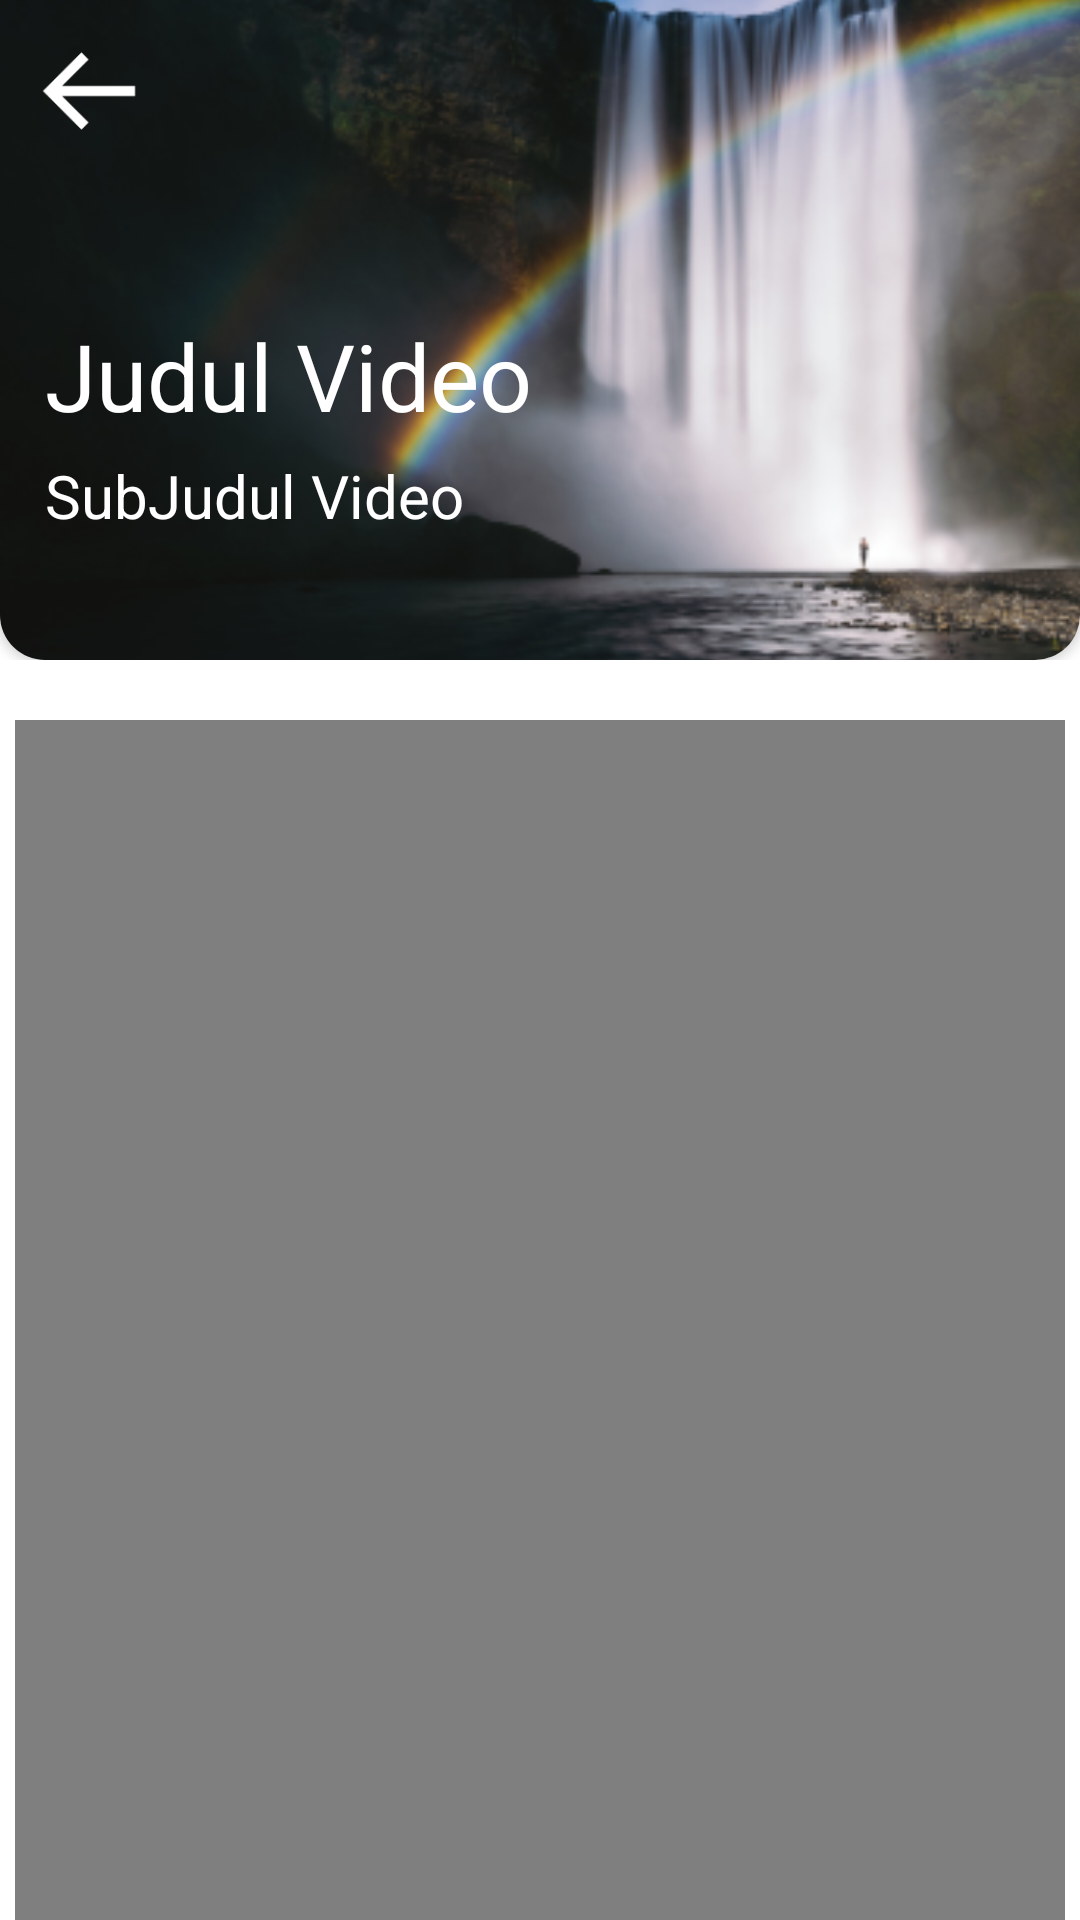

Named icons in this screenshot (1080w x 1920h) and their bounding boxes, box(x1, y1, x2, y2):
back: box(43, 52, 136, 130)
